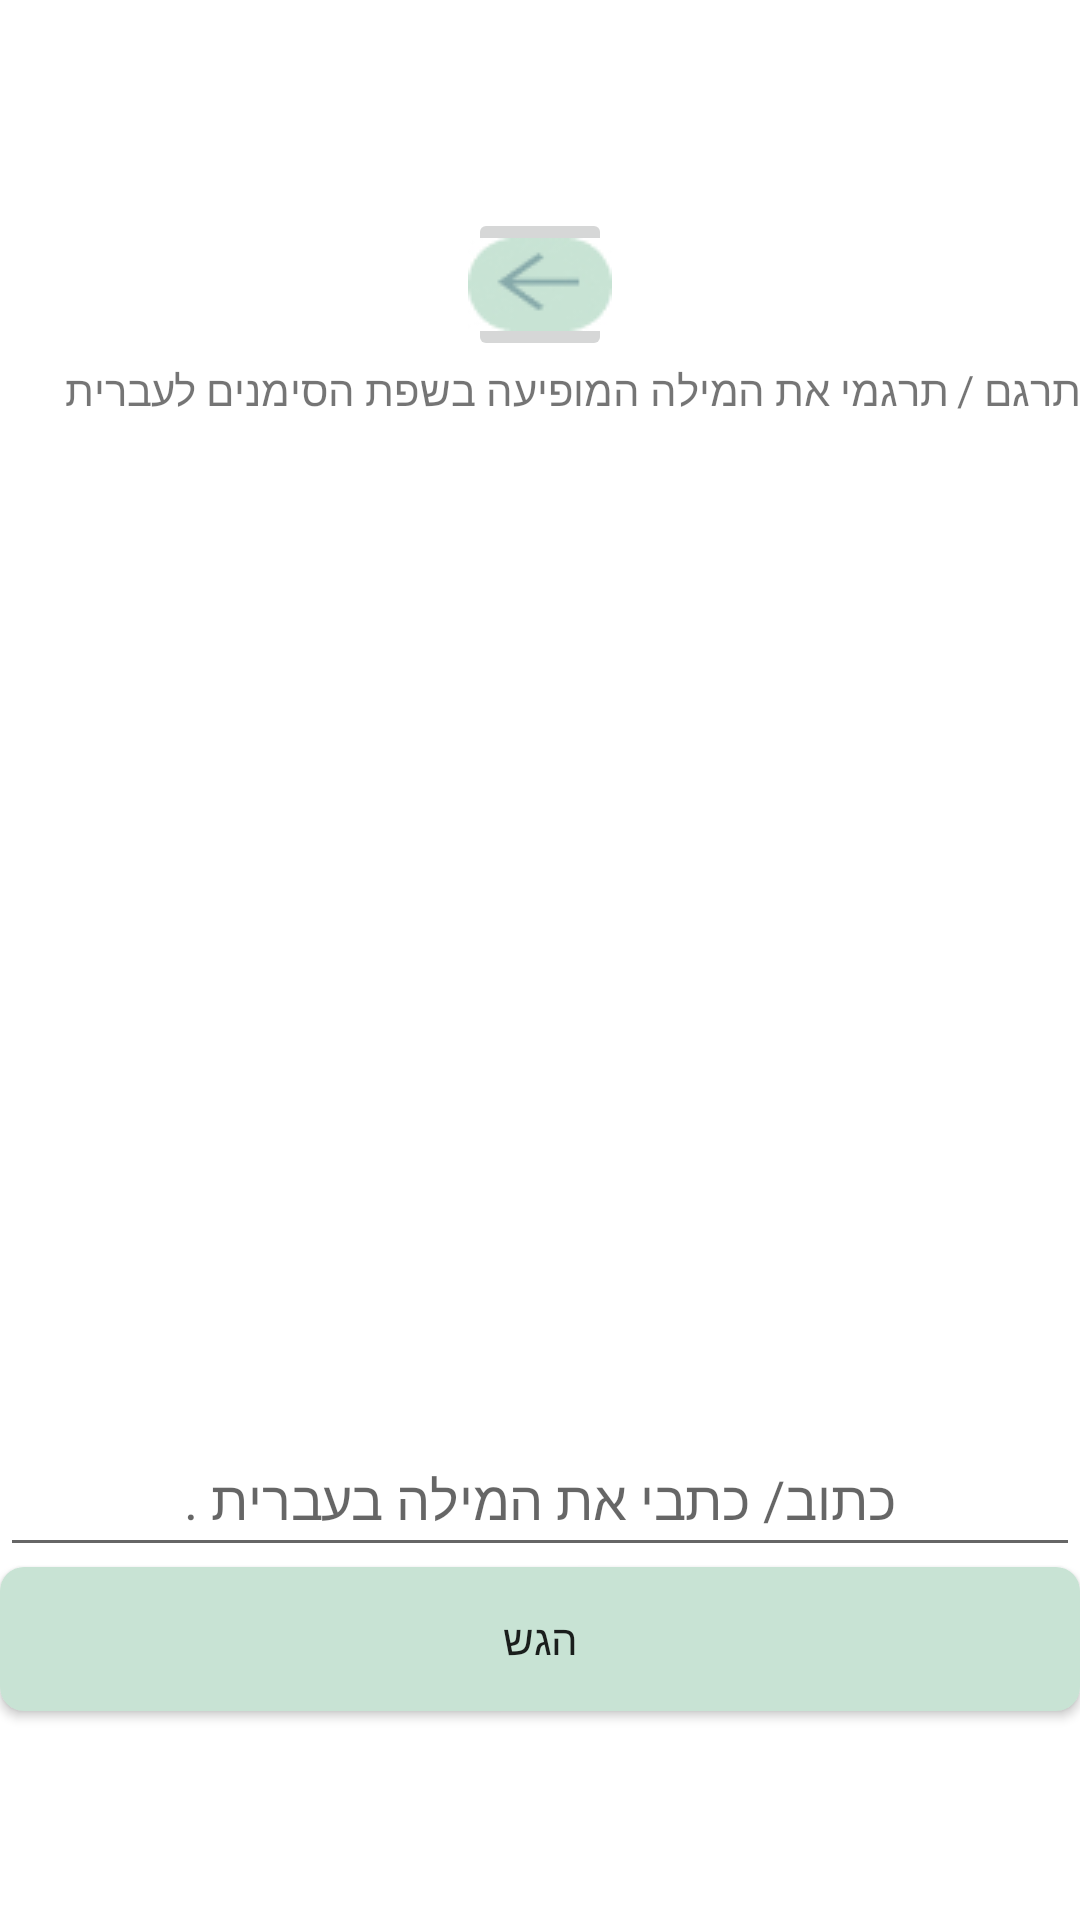

Named icons in this screenshot (1080 x 1920) and their centers, point (x, y):
Go To HebrewLevels: point (540, 284)
